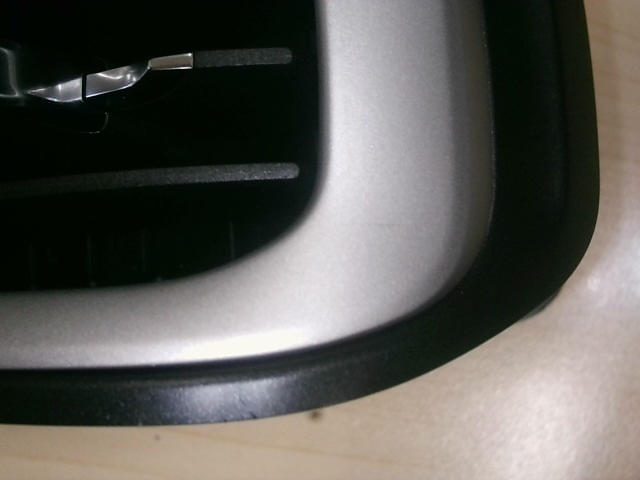NG: (338, 206, 424, 244), (207, 387, 271, 431)
